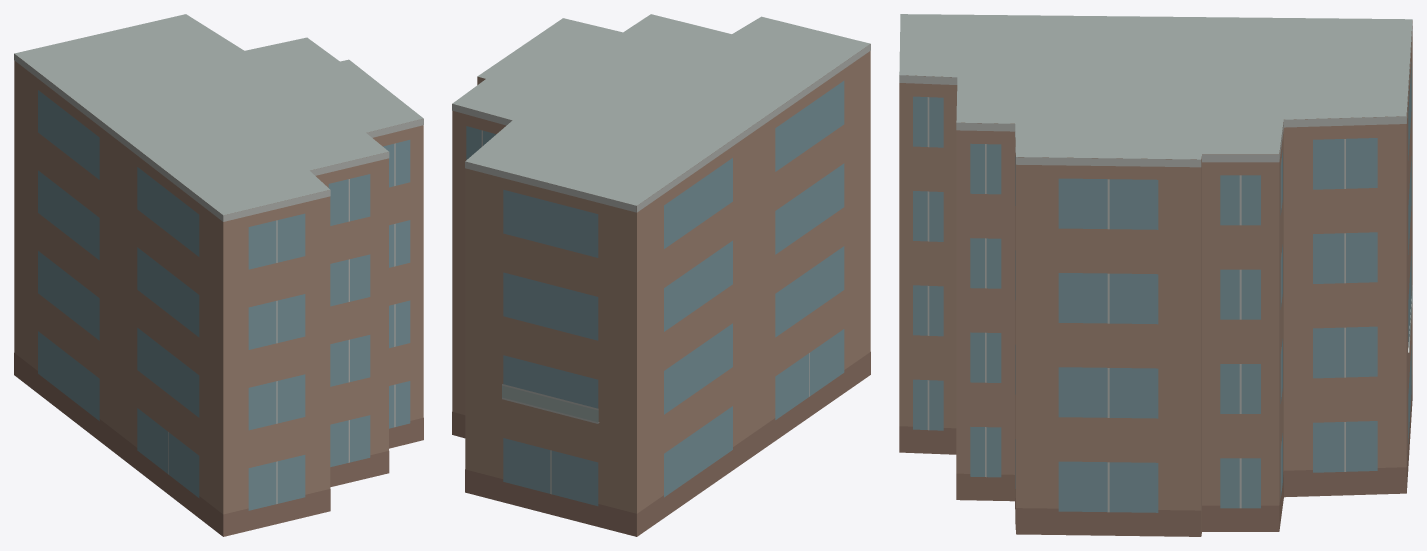
Rendered from survey-upis-32493963.glb.
3 views of the same model, side by side, from view 1: azimuth 30°, elevation 25°; view 2: azimuth 150°, elevation 25°; view 3: azimuth 270°, elevation 25° (orthographic). The views are drawn at different scales.
Parts seen in each view (by area): view 1: survey-upis-32493963.tmp; view 2: survey-upis-32493963.tmp; view 3: survey-upis-32493963.tmp.
Boxes of the visible parts, bbox=[...] form: survey-upis-32493963.tmp: bbox=[14, 14, 423, 536]; survey-upis-32493963.tmp: bbox=[452, 14, 870, 536]; survey-upis-32493963.tmp: bbox=[899, 14, 1412, 536].
Bounding box in the file's own units: 9.77 × 11.8 × 14.55.
